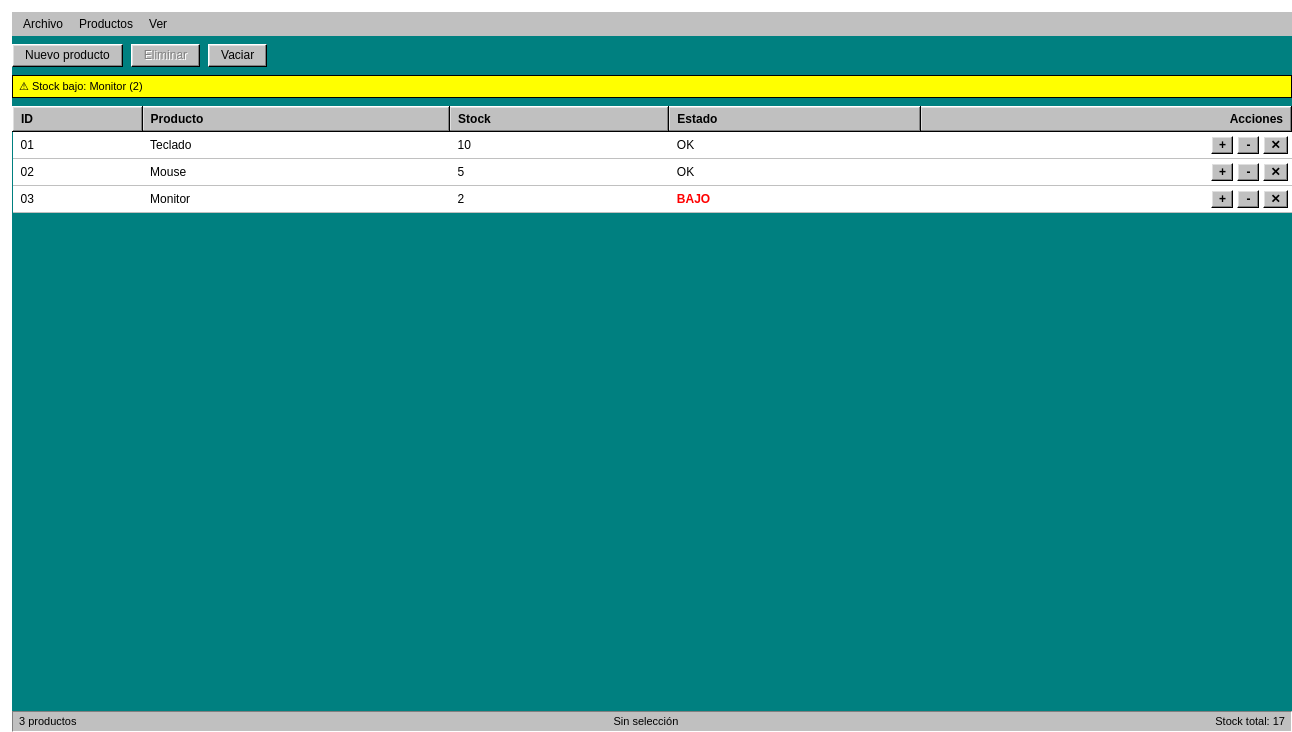
Test: StockWindow › vaciar stock deja la tabla vacía
Click the button "Vaciar" at (238, 56), box [208,44,267,67]
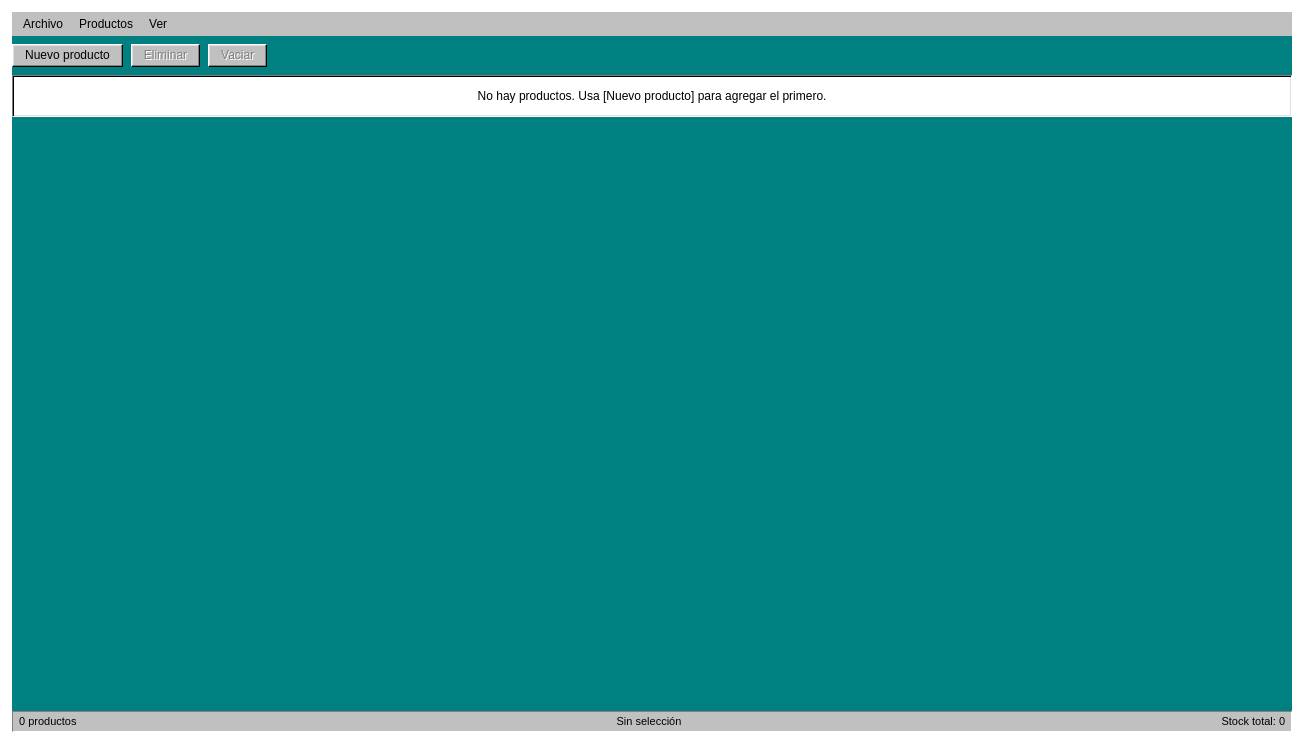
Result: the text "No hay productos" is shown at [478,89,826,103]
Result: the text "Teclado" is gone
